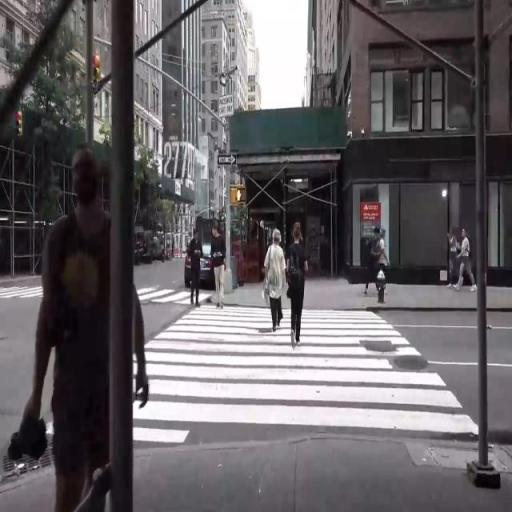person: (41, 157, 139, 512), (289, 225, 312, 344), (262, 233, 287, 329), (210, 222, 231, 317), (187, 224, 202, 310), (461, 232, 479, 290), (368, 224, 381, 300), (383, 229, 394, 303), (450, 220, 458, 290)
